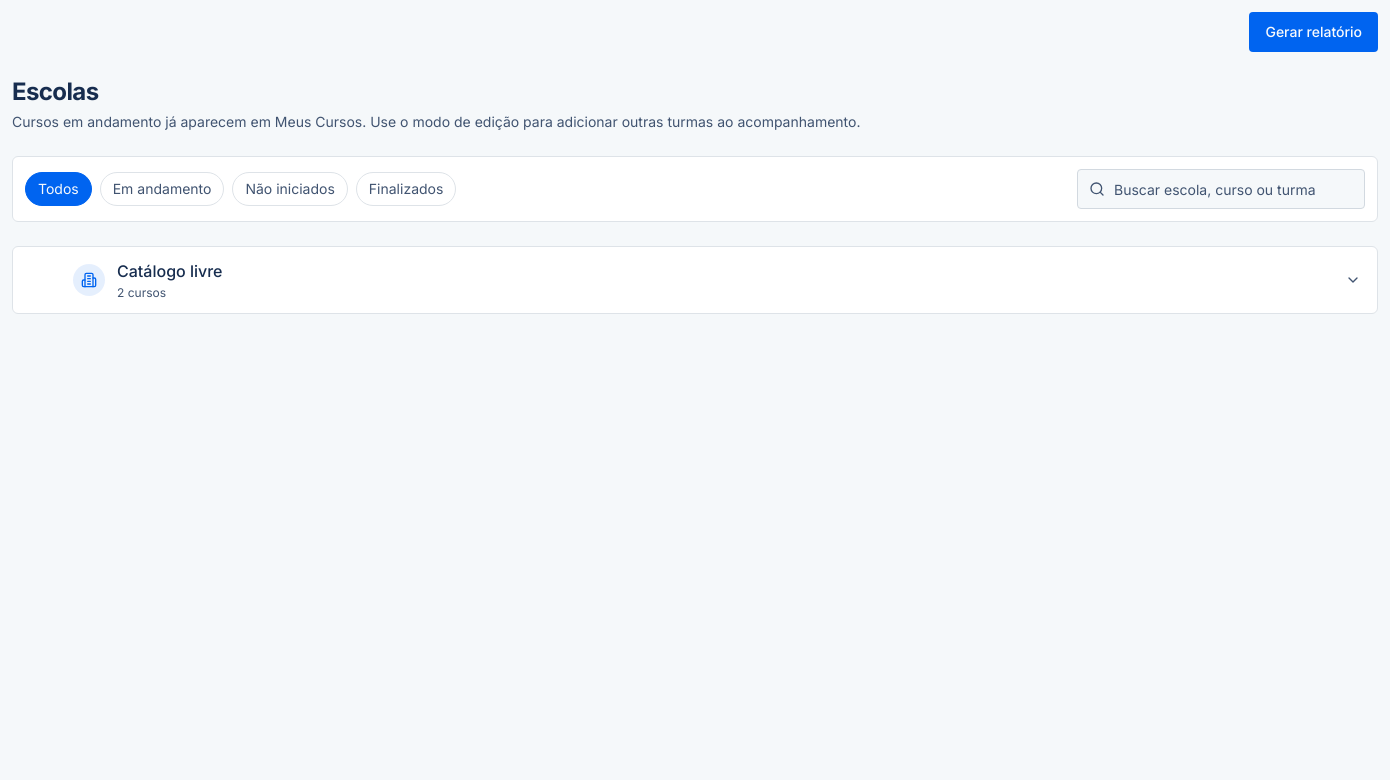
it: seleção nas árvores do portal › preserves confirmed IDs after a page error and resolves the same selection on retry
Click the button "Gerar relatório" at point(1314, 32), box [1249, 12, 1378, 52]
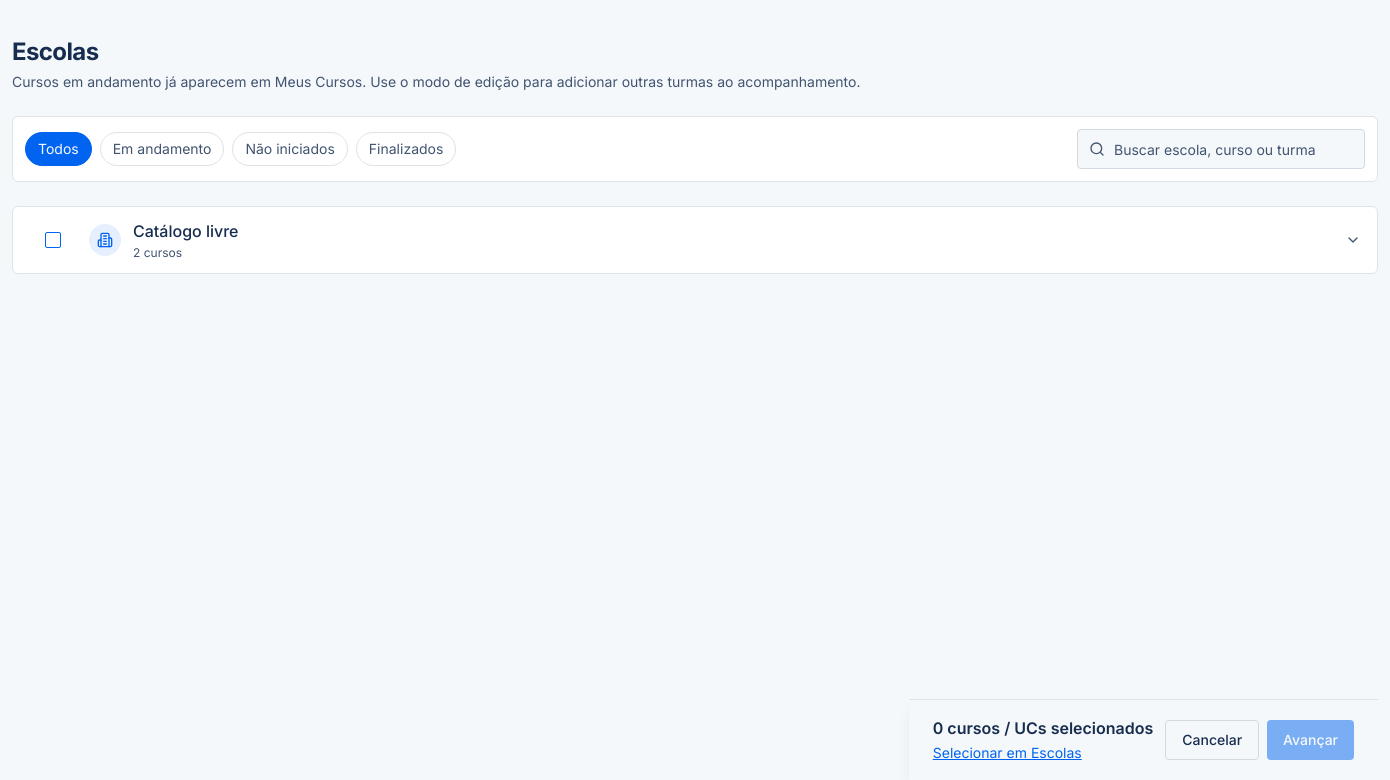
Click the checkbox at point(53, 240), box [45, 232, 61, 248]
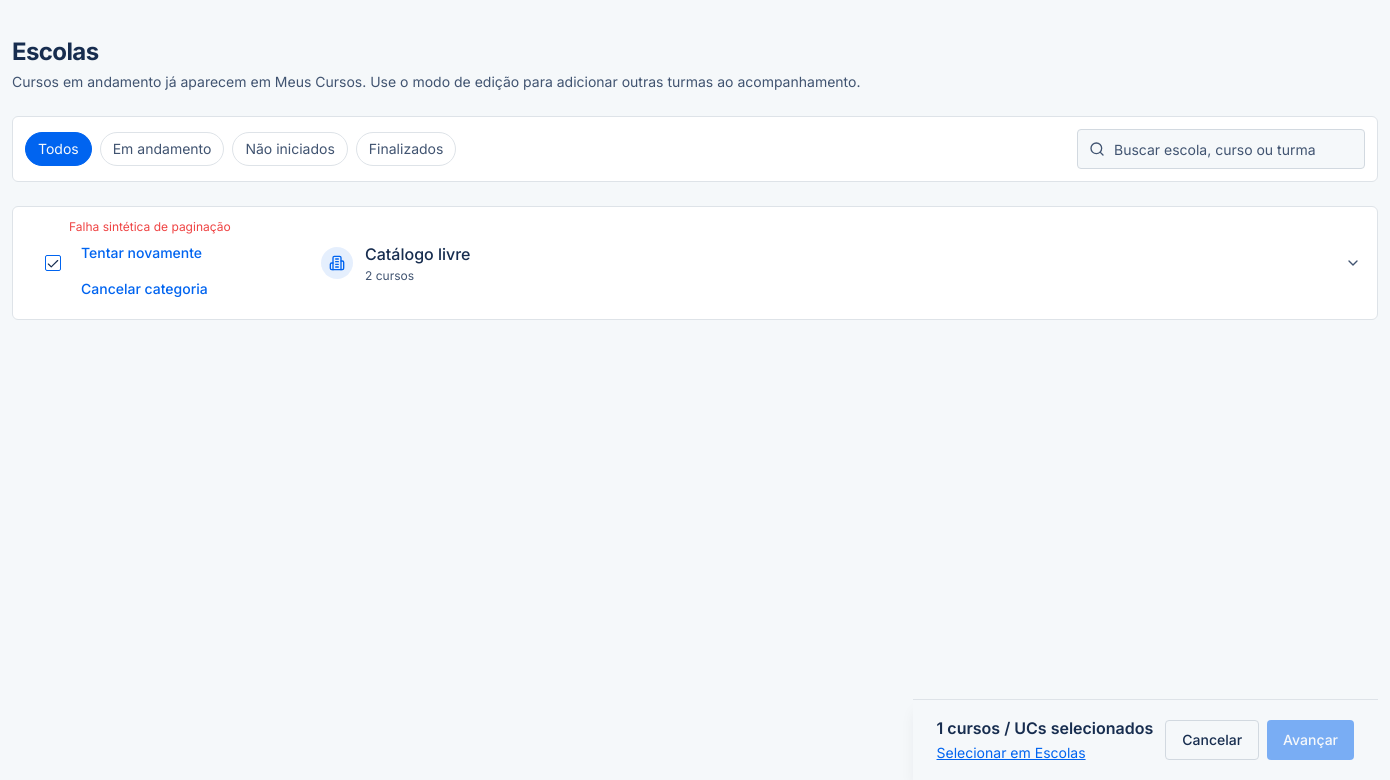
Result: the button "Avançar" is disabled at [1267, 720, 1354, 760]
Result: the text "Falha sintética de paginação" is shown at [69, 219, 231, 234]
Result: the text "1 cursos / UCs selecionados" is shown at [936, 716, 1153, 740]
Click the button "Tentar novamente" at point(142, 253), box [69, 235, 214, 271]
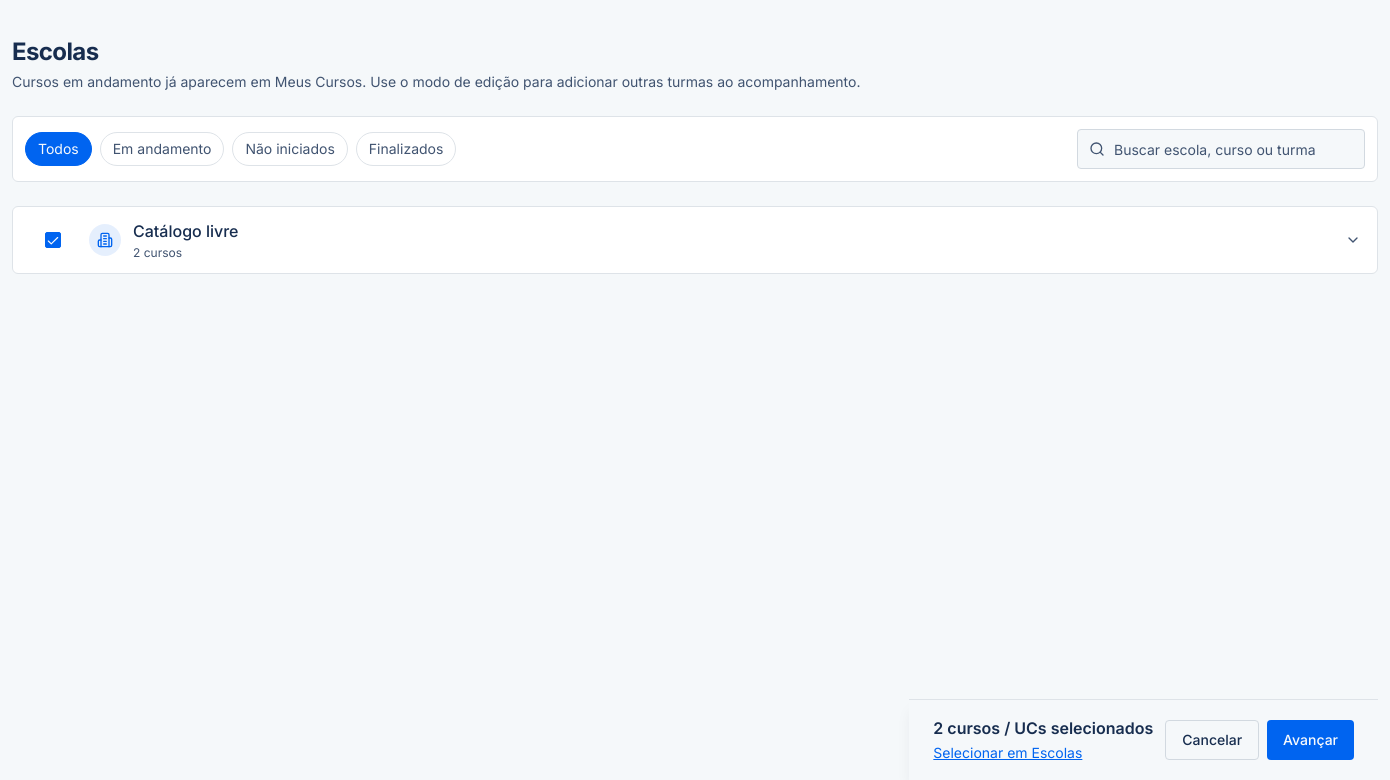
Result: the button "Avançar" is enabled at [1267, 720, 1354, 760]
